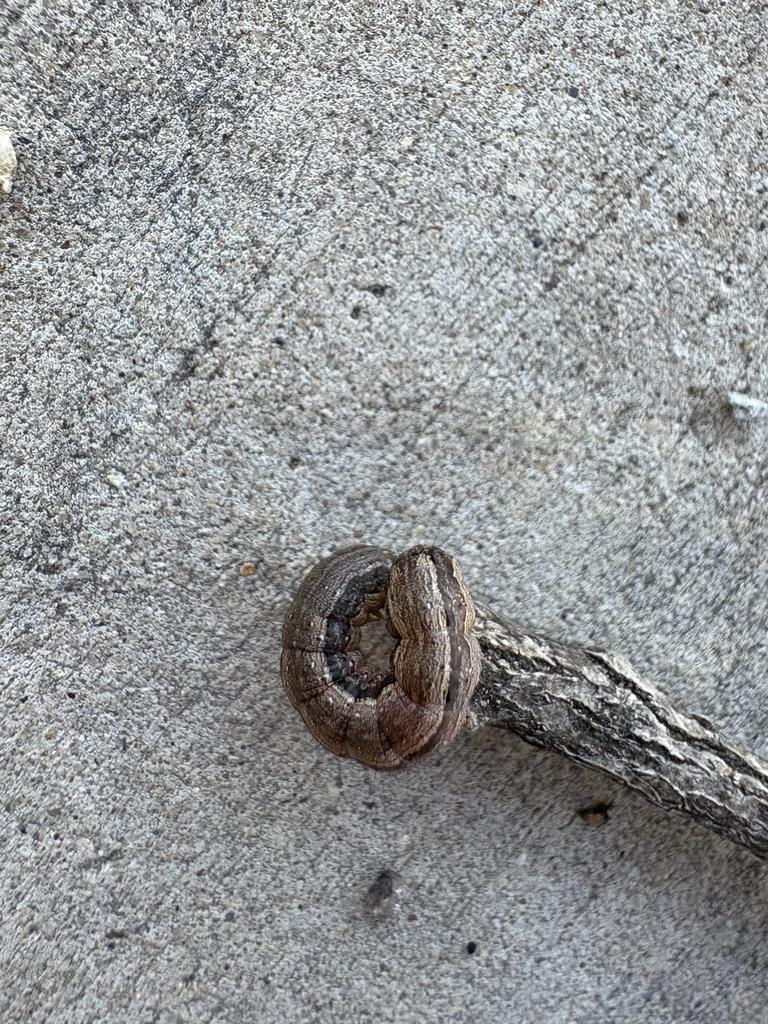caterpillars: (233, 486, 529, 834)
